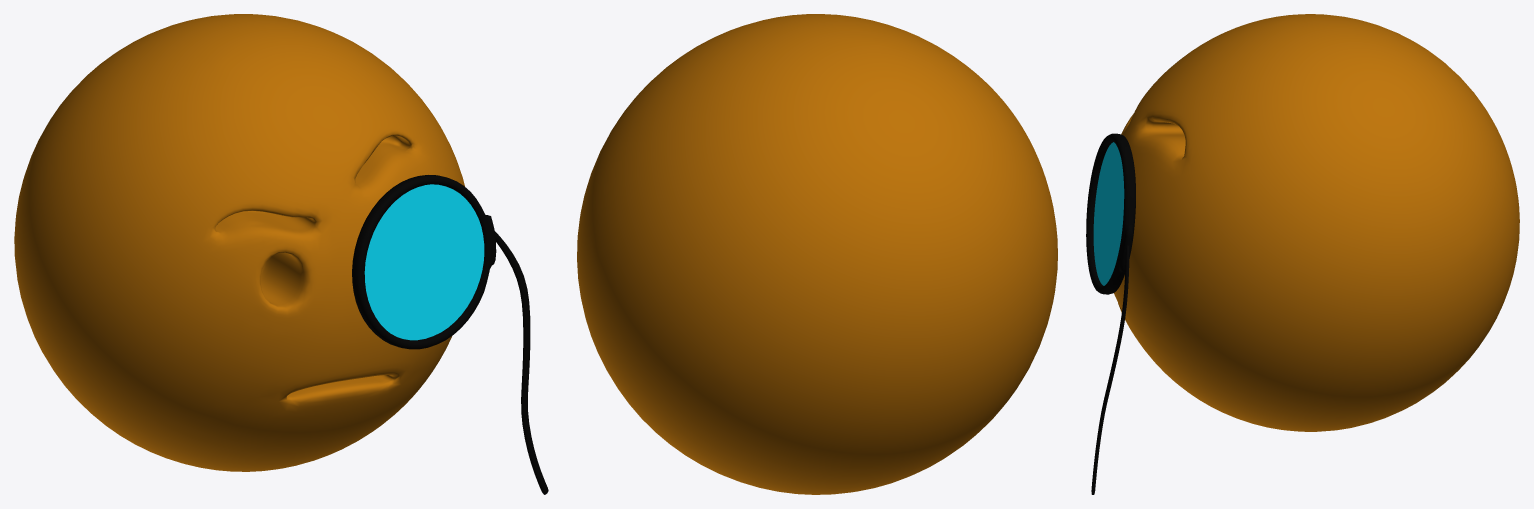
File: monocle FBX.FBX
3 renders of one model, left to right at view 1: azimuth 30°, elevation 25°; view 2: azimuth 150°, elevation 25°; view 3: azimuth 270°, elevation 25°, orthographic. The views are drawn at different scales.
Parts seen in each view (by area): view 1: Group48814, Cylinder001, ZBrush_defualt_group, Group53014; view 2: Group48814; view 3: Group48814, ZBrush_defualt_group, Cylinder001, Group53014.
Part boxes in pixels (left/top/right/bottom): Group48814: left=14, top=14, right=464, bottom=471; Cylinder001: left=364, top=184, right=484, bottom=340; ZBrush_defualt_group: left=352, top=175, right=496, bottom=349; Group53014: left=494, top=231, right=548, bottom=494; Group48814: left=577, top=14, right=1057, bottom=494; Group48814: left=1114, top=14, right=1519, bottom=431; ZBrush_defualt_group: left=1086, top=133, right=1135, bottom=294; Cylinder001: left=1093, top=142, right=1124, bottom=285; Group53014: left=1091, top=245, right=1129, bottom=494.
Size of the model in its own units: 22.29 by 22.38 by 23.14.
